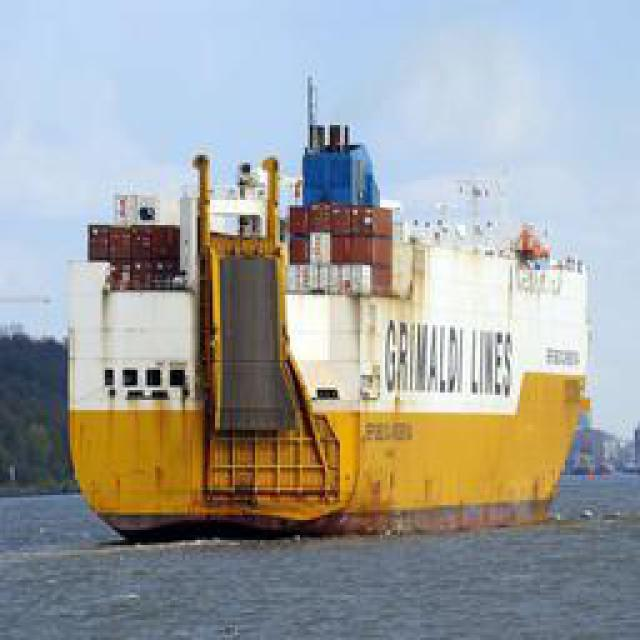Ship: (69, 76, 602, 526)
